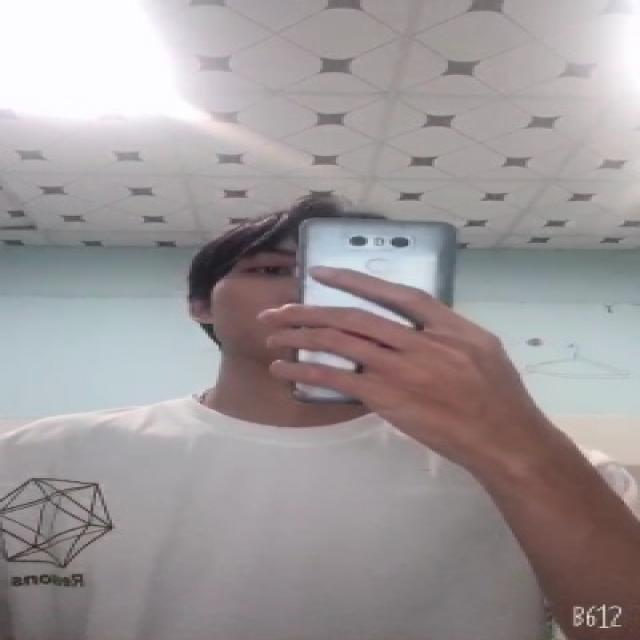Phone: (288, 215, 461, 408)
